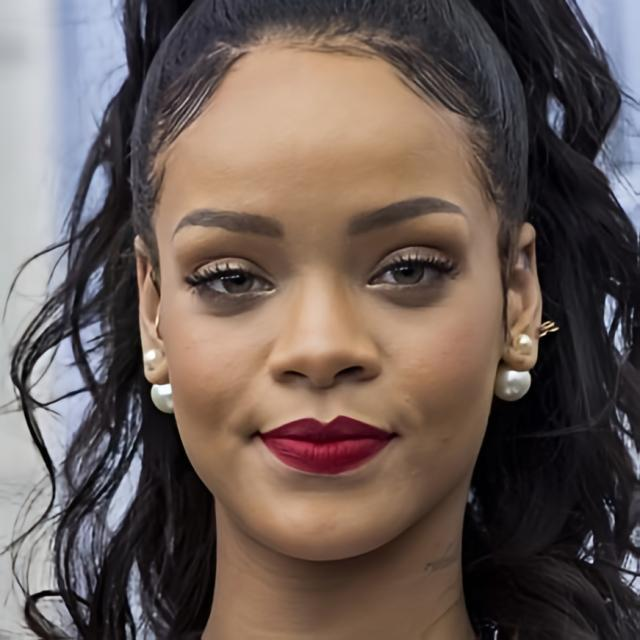content: (162, 46, 506, 559)
